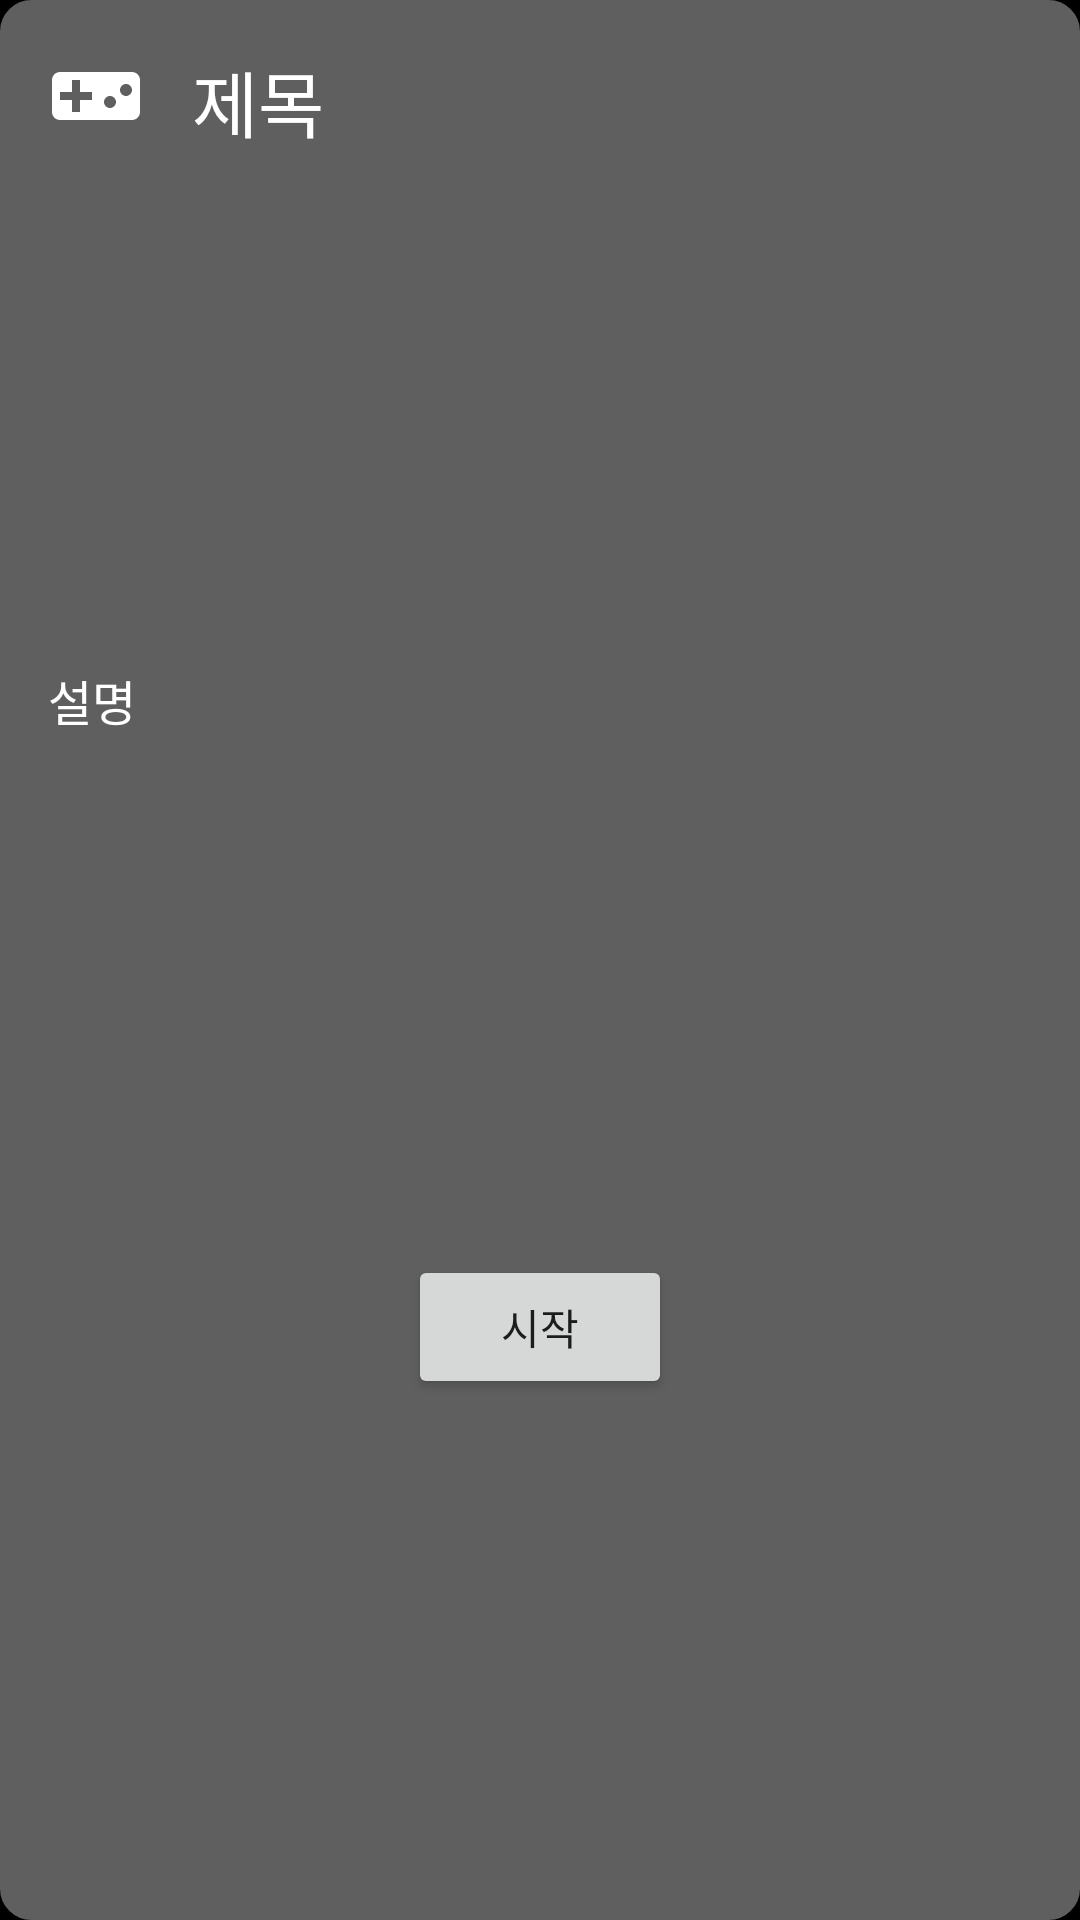

Icon bounding boxes for this 1080px×1920px phone screenshot, format rect(x1, y1, x2, y2):
videogame: rect(52, 72, 140, 120)
